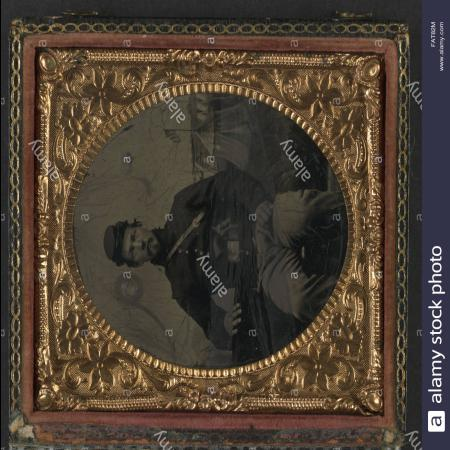Pistol: (209, 212, 231, 262)
